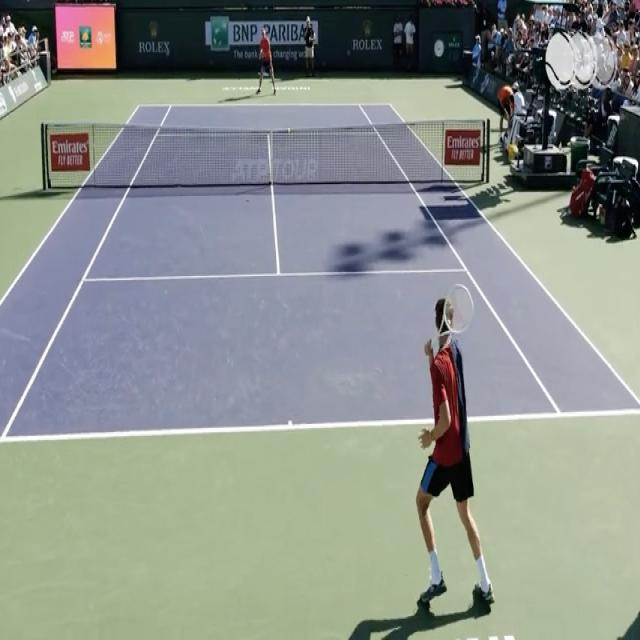forehand-finish: (416, 287, 496, 616)
